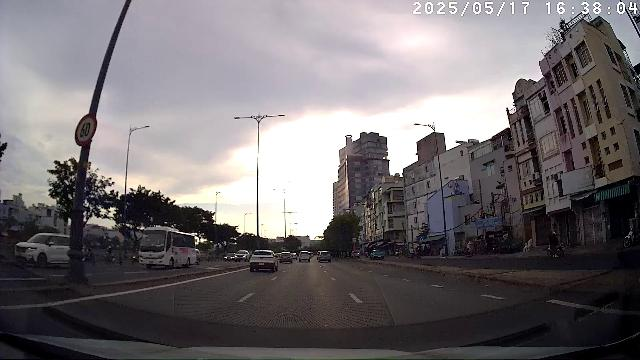127-toc-do-toi-da-60: (75, 113, 97, 145)
